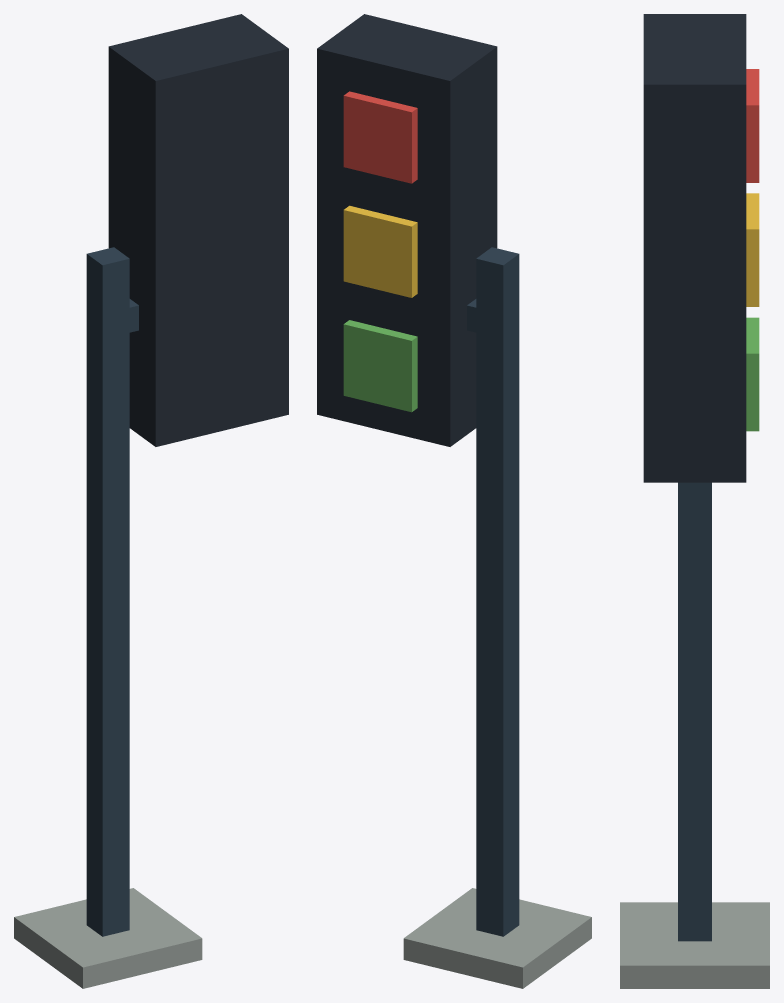
The picture shows the model from 3 angles, left to right: view 1: azimuth 30°, elevation 25°; view 2: azimuth 150°, elevation 25°; view 3: azimuth 270°, elevation 25°; orthographic projection. The views are drawn at different scales.
Visible parts, largest first — view 1: signal-box, square-signal-pole, base; view 2: signal-box, square-signal-pole, square-signal-light (×3), base; view 3: signal-box, square-signal-pole, base, square-signal-light (×3).
Part boxes in pixels (x1,y1,x2,y2): signal-box: (108, 14, 288, 446); square-signal-pole: (86, 247, 129, 936); base: (14, 888, 202, 988); signal-box: (317, 14, 497, 446); square-signal-pole: (476, 247, 519, 936); square-signal-light (×3): (343, 91, 417, 412); base: (403, 888, 591, 988); signal-box: (643, 14, 746, 482); square-signal-pole: (678, 482, 711, 941); base: (620, 902, 769, 988); square-signal-light (×3): (746, 69, 759, 431).
Size of the model in its own units: 1.27 by 4.95 by 0.7.
